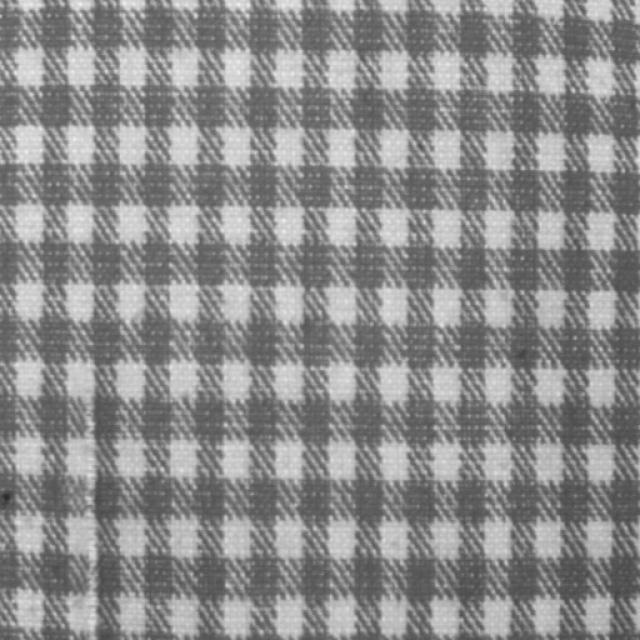Thread-Defect: (86, 366, 98, 638)
